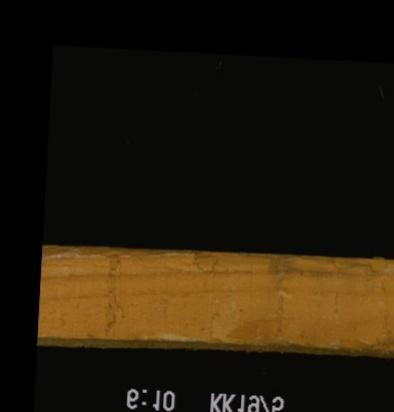wave: (41, 246, 192, 267)
